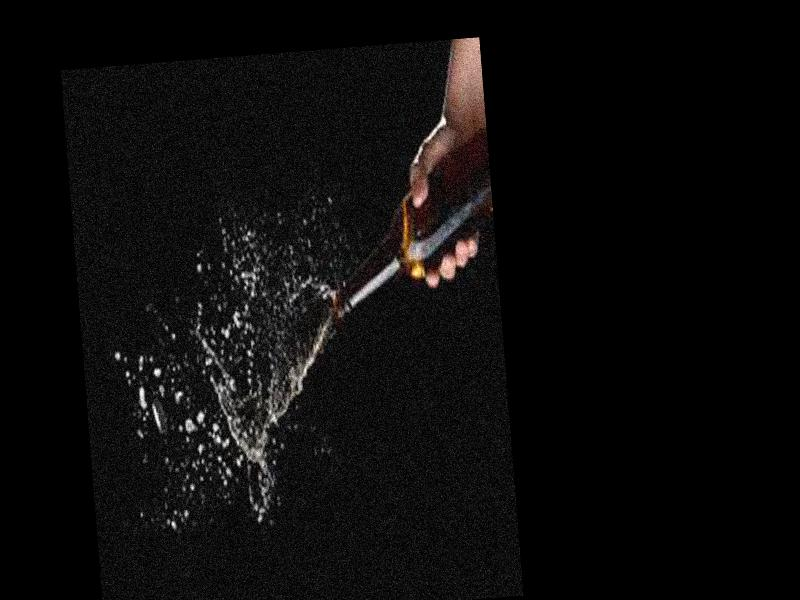Beer: (321, 123, 499, 323)
